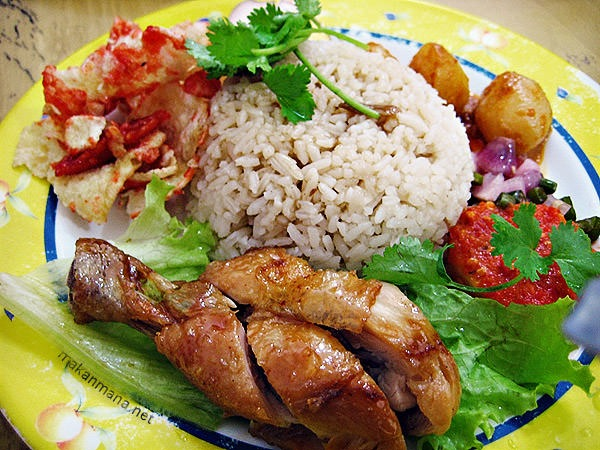buah_sayur_lainnya: (464, 317, 547, 394)
buah_sayur_vitA: (477, 205, 572, 296)
daging: (194, 285, 389, 382)
makanan_berpati: (240, 131, 428, 228), (49, 75, 178, 169)
